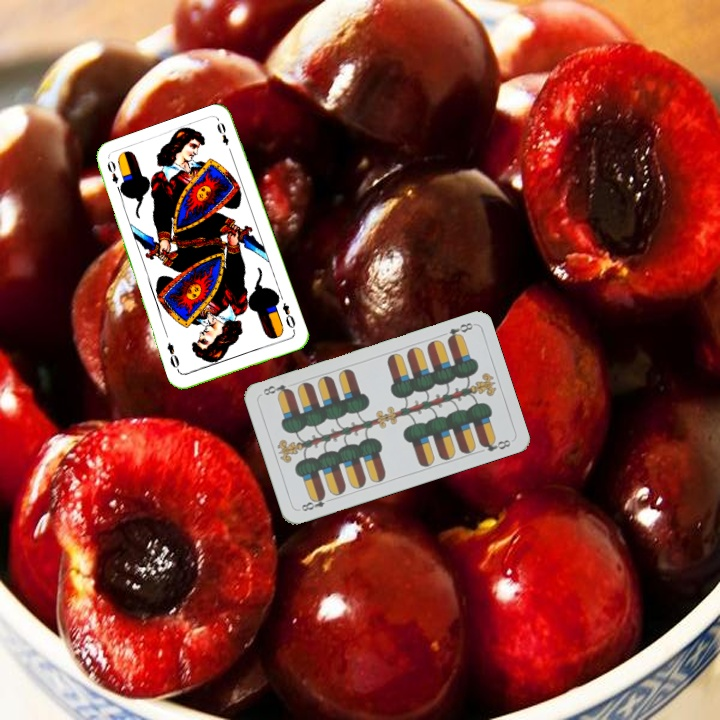E8: (297, 491, 335, 514), (443, 318, 475, 344)
EO: (278, 299, 298, 331), (103, 156, 121, 187)
